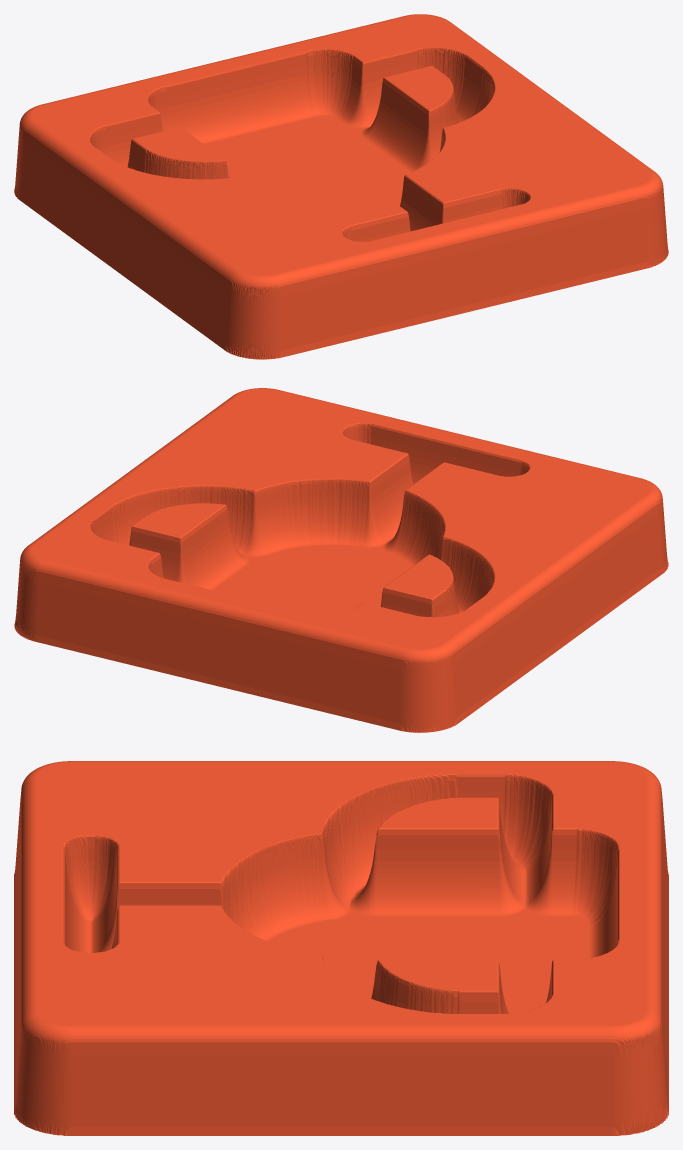
File: mold.glb
3 renders of one model, top to bottom at view 1: azimuth 30°, elevation 25°; view 2: azimuth 150°, elevation 25°; view 3: azimuth 270°, elevation 25°, orthographic. The views are drawn at different scales.
Parts seen in each view (by area): view 1: geometry_0; view 2: geometry_0; view 3: geometry_0.
Boxes of the visible parts, <box> form: geometry_0: <box>14,14,668,359</box>; geometry_0: <box>14,388,668,732</box>; geometry_0: <box>14,761,668,1135</box>.
Size of the model in its own units: 0.105 by 0.0175 by 0.103.
